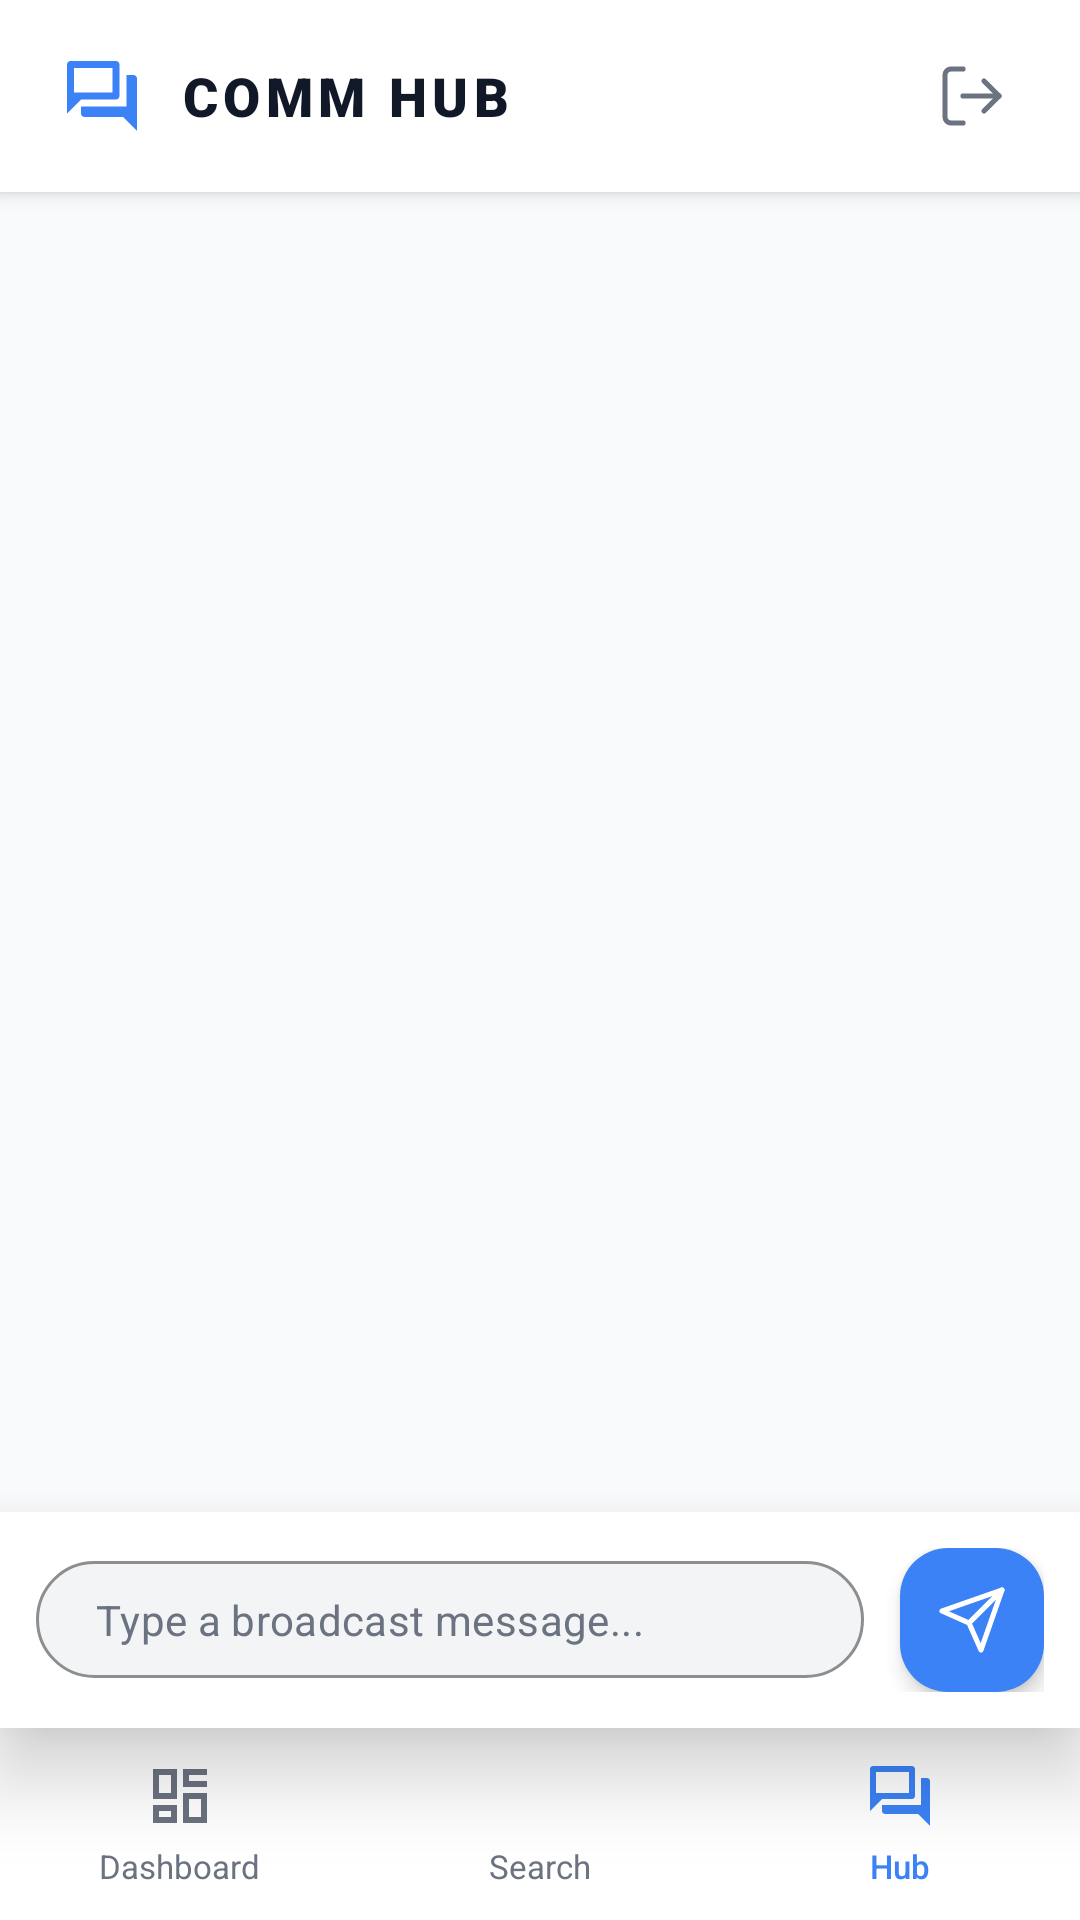

Named icons in this screenshot (1080 x 1920) and their centers, (x,y):
Send: (972,1620)
